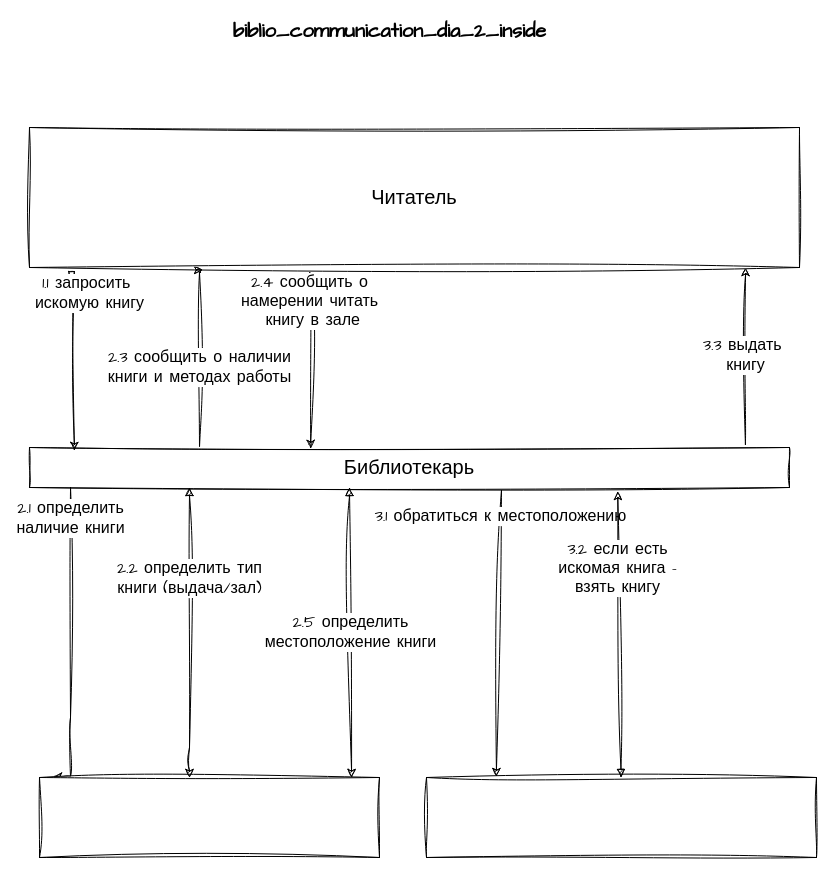
Image size: 834x875. Some labels were removed from this diagram. Here are the shapes that lost their labels. From the top down, the centre of each, then its label:
At pixel 209 817: "Каталог".
At pixel 621 817: "КнигоХранилище".
